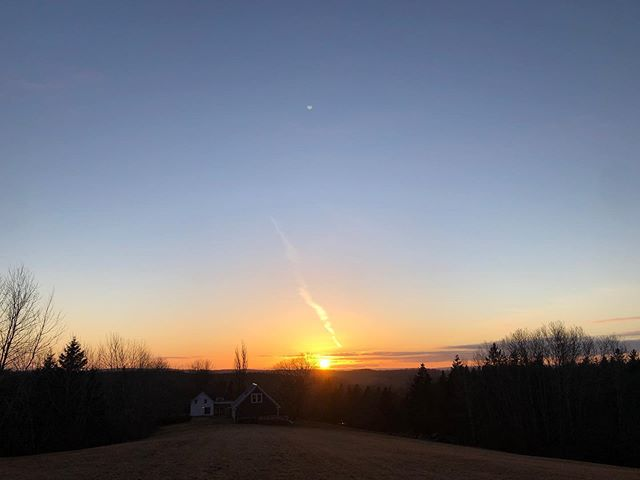building: (189, 385, 286, 421)
sky: (1, 1, 640, 348)
sun: (314, 354, 342, 374)
vegetation: (300, 344, 640, 449), (1, 353, 179, 434)
